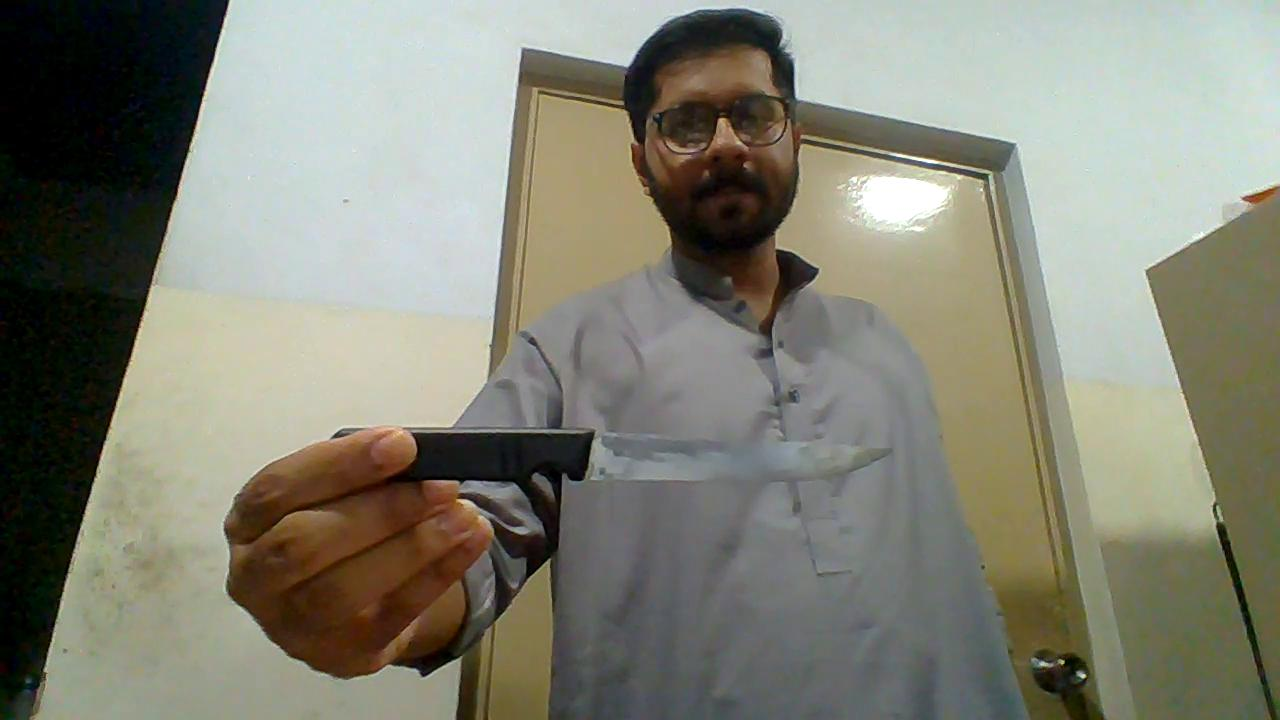criminal: (227, 7, 1029, 720)
weapon: (330, 423, 899, 489)
